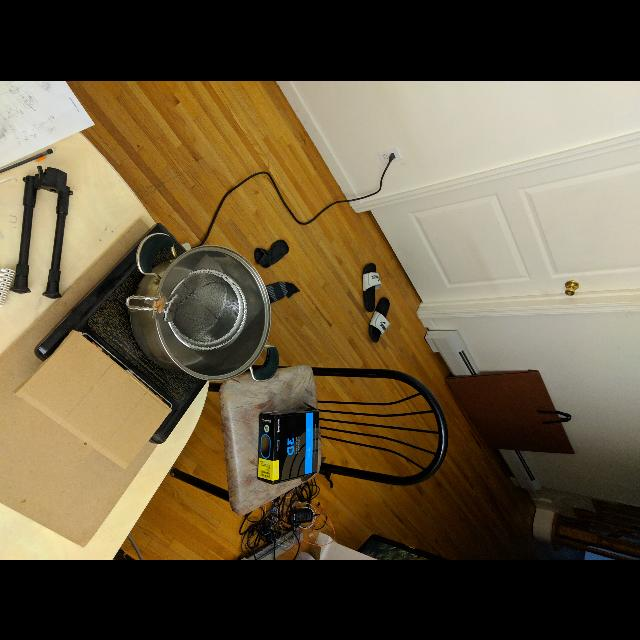Handle: (123, 286, 177, 318)
Strainer: (162, 260, 258, 358)
